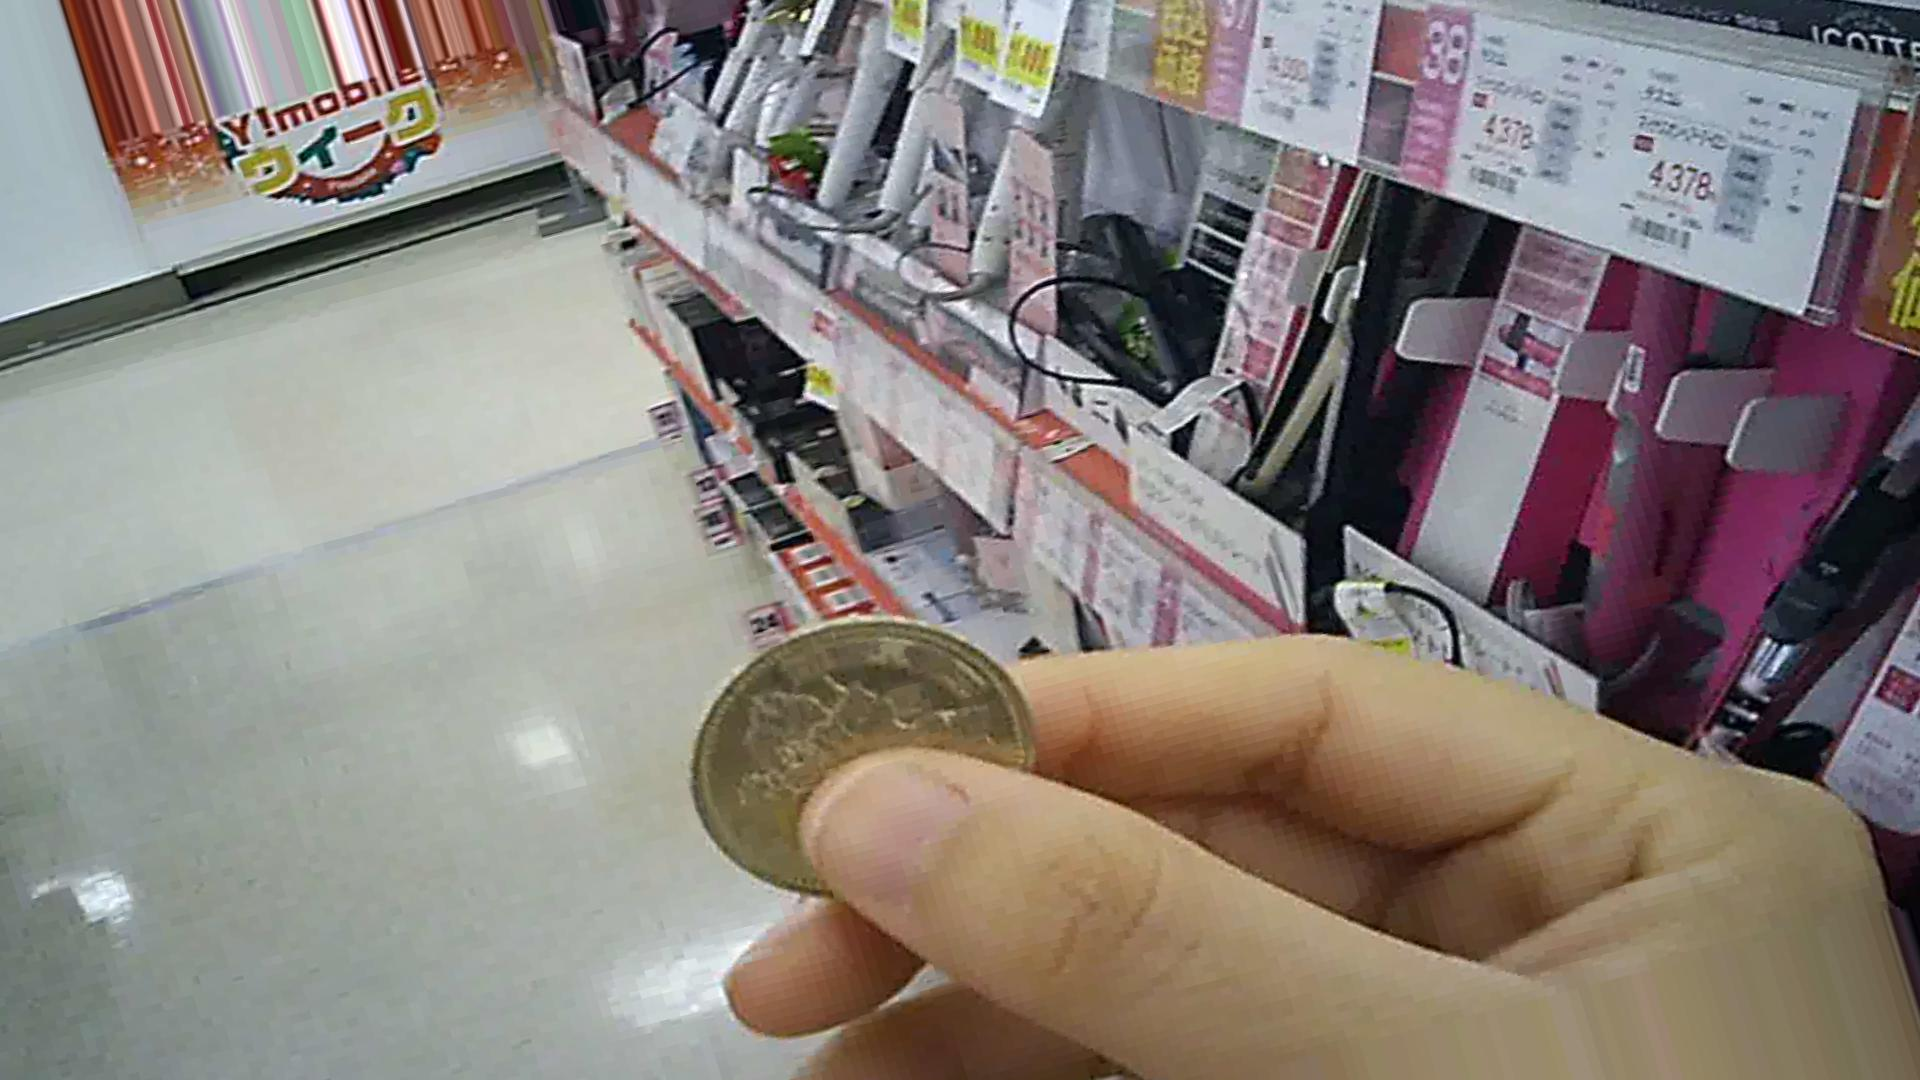500 Yen: (682, 618, 1026, 911)
